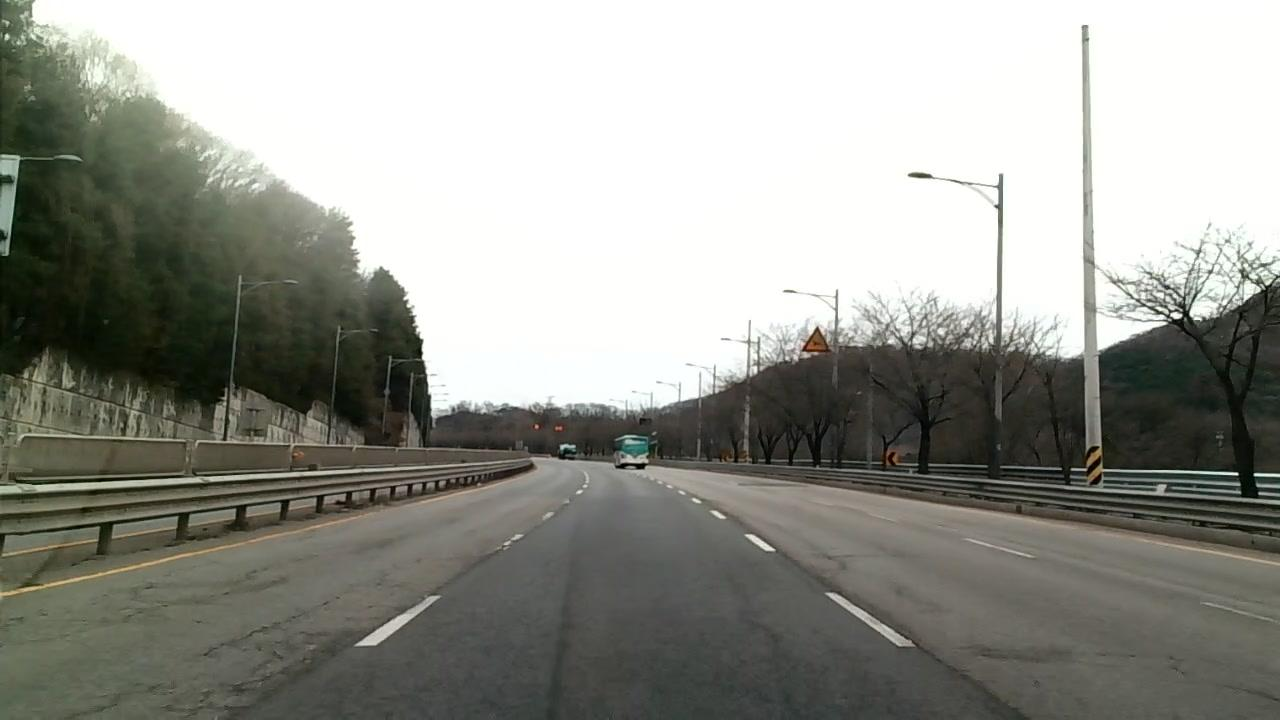erosion: (117, 593, 361, 720)
vcrack: (1164, 651, 1278, 701)
